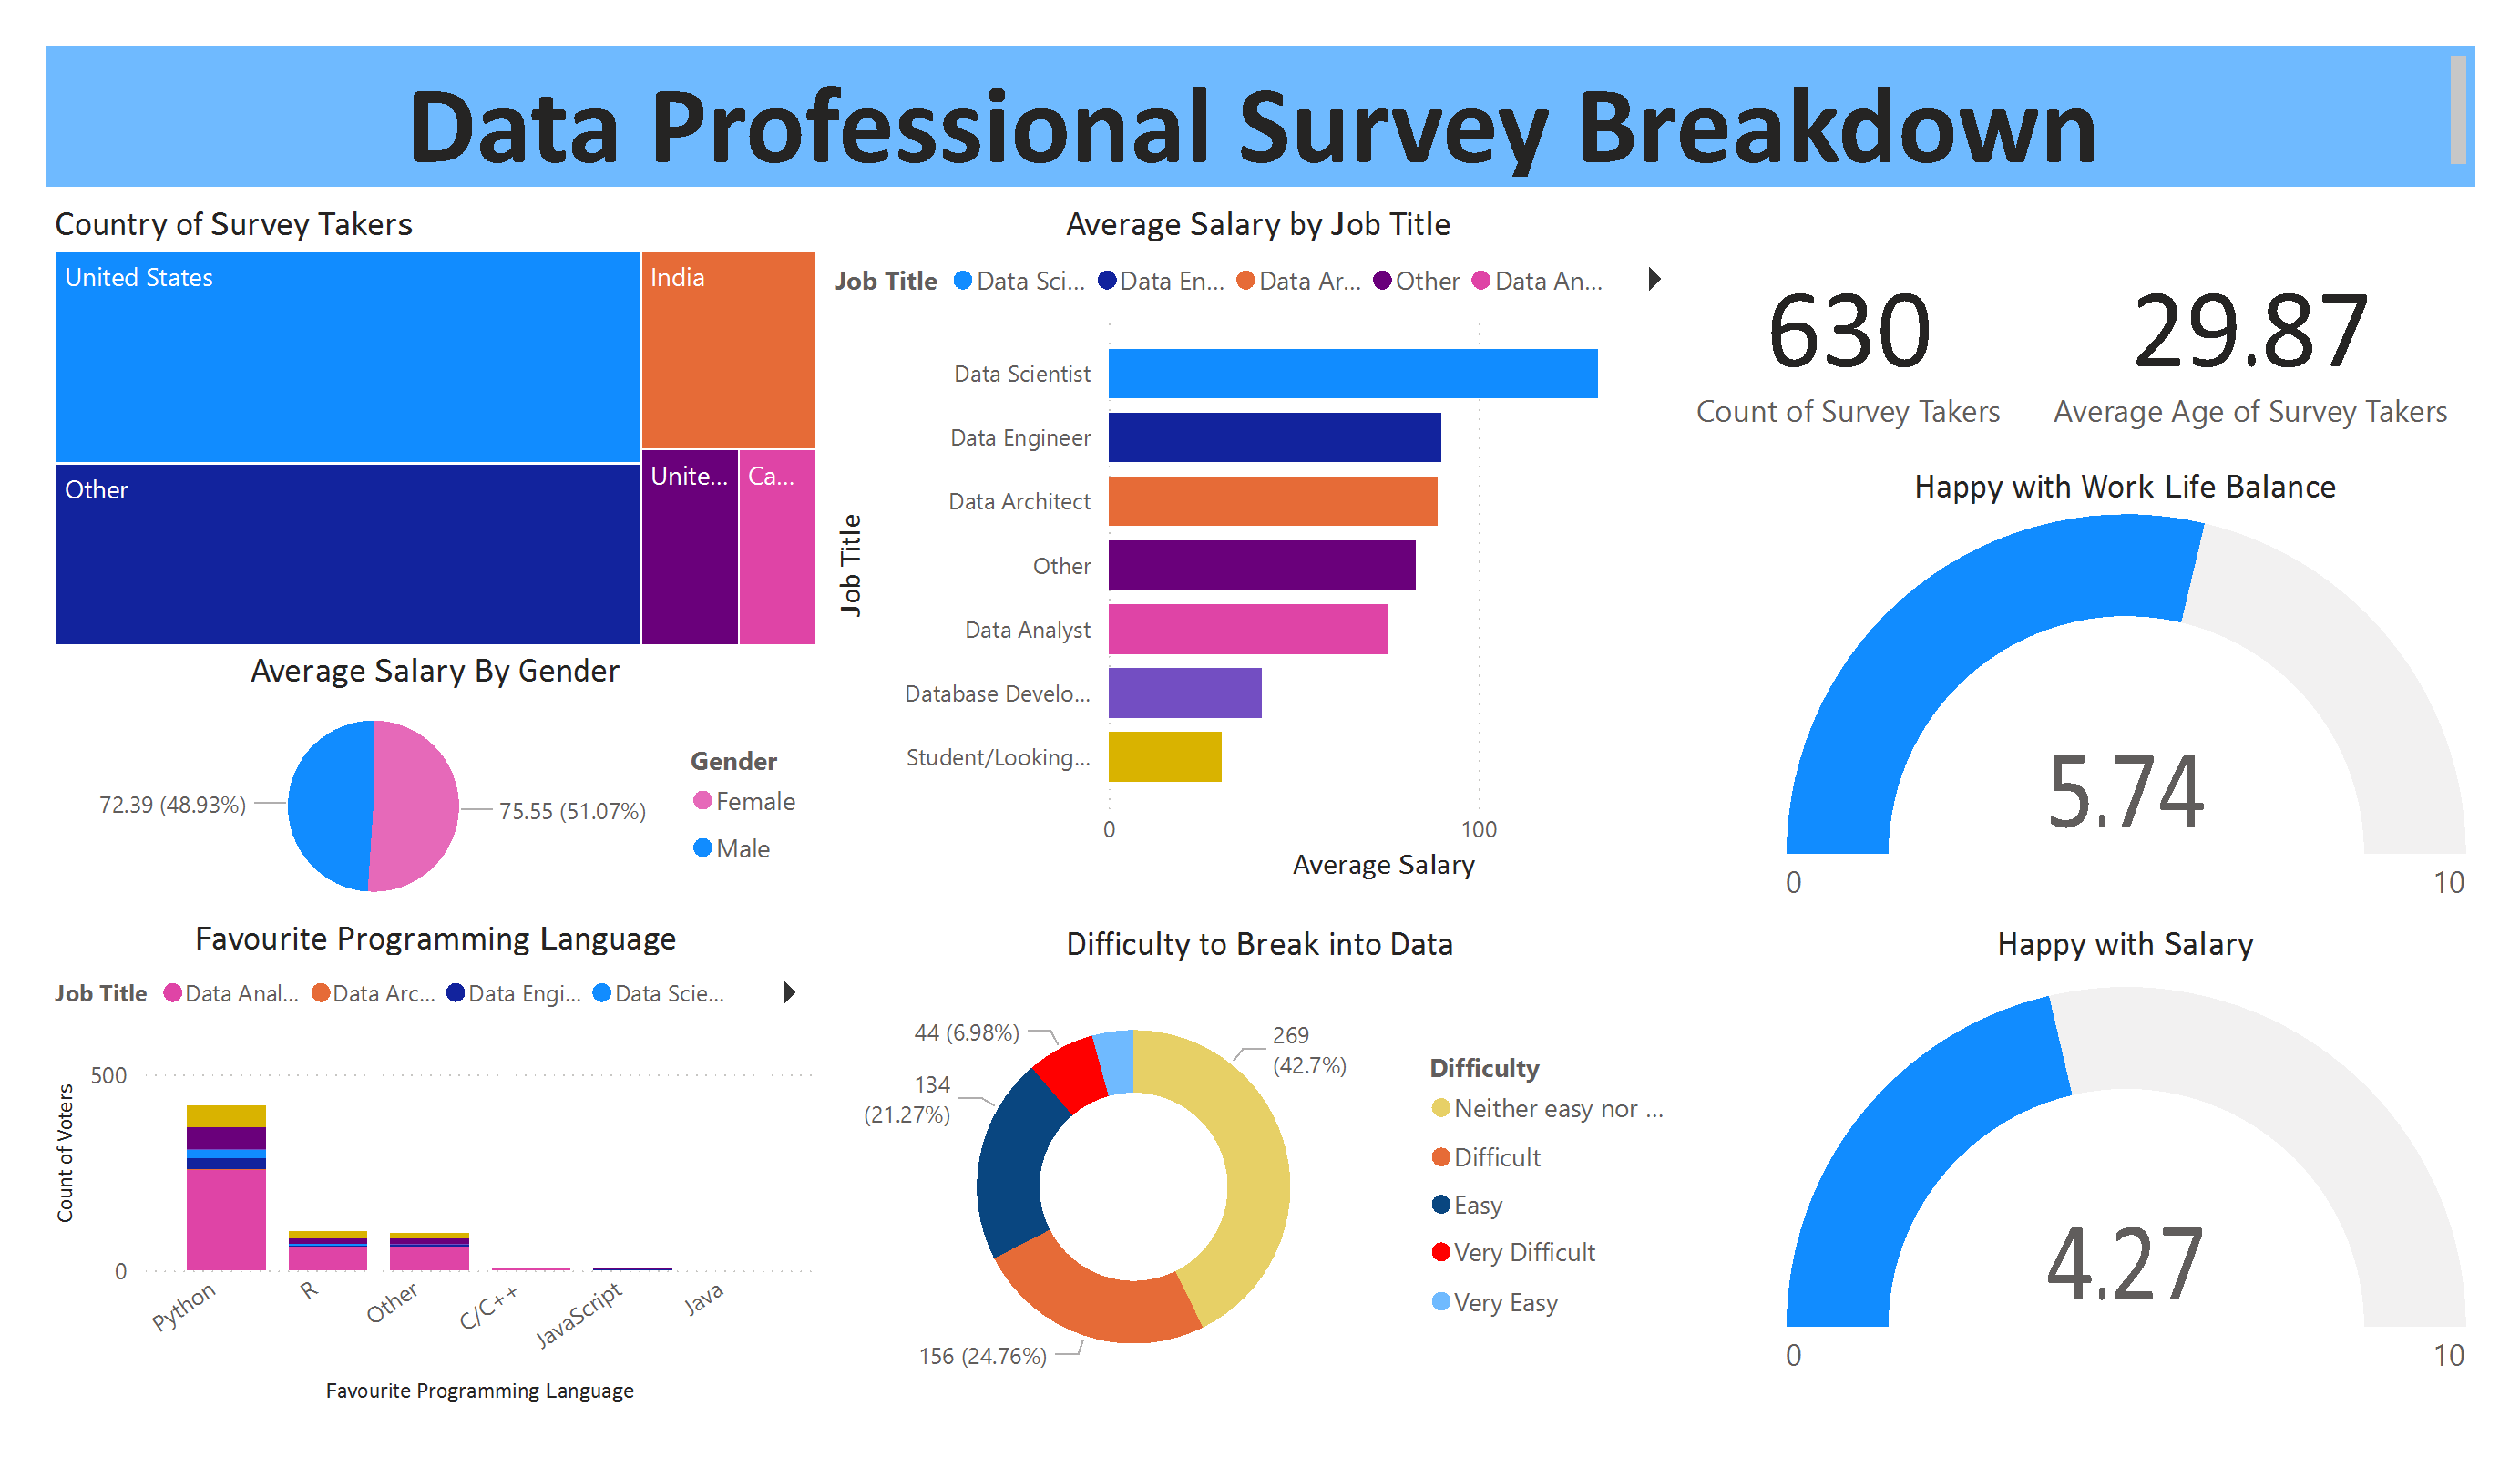

The page's visual inventory and layout, read from the dashboard file:
{"tool":"powerbi","page":{"name":"Page 1","canvas":[1280,720],"ordinal":0},"visuals":[{"type":"textbox","box":[0,0,1280.2,74.1],"z":0},{"type":"card","fields":{"Values":["CountNonNull(Data Professional Survey.Unique ID)"]},"box":[824.7,85.2,250.6,137],"z":1000},{"type":"card","fields":{"Values":["Avg(Data Professional Survey.Q10 - Current Age)"]},"box":[1044.4,85.2,235.8,137],"z":2000},{"type":"barChart","title":"Average Salary by Job Title","fields":{"Category":["Data Professional Survey.Q1 - Which Title Best Fits your Current Role?.1"],"Y":["Avg(Data Professional Survey.Average Salary)"],"Series":["Data Professional Survey.Q1 - Which Title Best Fits your Current Role?.1"]},"box":[411.1,84,455.6,360.5],"z":3000},{"type":"columnChart","title":"Favourite Programming Language","fields":{"Category":["Data Professional Survey.Q5 - Favorite Programming Language.1"],"Y":["CountNonNull(Data Professional Survey.Unique ID)"],"Series":["Data Professional Survey.Q1 - Which Title Best Fits your Current Role?.1"]},"box":[0,460.5,411.1,259.3],"z":4000},{"type":"treemap","title":"Country of Survey Takers","fields":{"Group":["Data Professional Survey.Q11 - Which Country do you live in?.1"],"Values":["CountNonNull(Data Professional Survey.Q11 - Which Country do you live in?.1)"]},"box":[0,84,411.1,237],"z":5000},{"type":"gauge","title":"Happy with Work Life Balance","fields":{"Y":["Avg(Data Professional Survey.Q6 - How Happy are you in your Current Position with the following? (Work/Life Balance))"],"MinValue":["Min(Data Professional Survey.Q6 - How Happy are you in your Current Position with the following? (Work/Life Balance))1"],"MaxValue":["Max(Data Professional Survey.Q6 - How Happy are you in your Current Position with the following? (Work/Life Balance))2"]},"box":[912.3,222.2,367.9,240.7],"z":6000},{"type":"gauge","title":"Happy with Salary","fields":{"Y":["Avg(Data Professional Survey.Q6 - How Happy are you in your Current Position with the following? (Salary))"],"MinValue":["Min(Data Professional Survey.Q6 - How Happy are you in your Current Position with the following? (Salary))1"],"MaxValue":["Max(Data Professional Survey.Q6 - How Happy are you in your Current Position with the following? (Salary))2"]},"box":[912.3,463,367.9,256.8],"z":7000},{"type":"donutChart","title":"Difficulty to Break into Data","fields":{"Category":["Data Professional Survey.Q7 - How difficult was it for you to break into Data?"],"Y":["CountNonNull(Data Professional Survey.Q7 - How difficult was it for you to break into Data?)"]},"box":[412.3,463,455.6,256.8],"z":8000},{"type":"pieChart","title":"Average Salary By Gender","fields":{"Y":["Avg(Data Professional Survey.Average Salary)"],"Category":["Data Professional Survey.Q9 - Male/Female?"]},"box":[0,318.5,411.1,144.4],"z":9000}]}

Visuals, with their boxes in screenshot pixels (x1, y1, x2, y2):
textbox: 46,46,2474,186
card - CountNonNull(Data Professional Survey.Unique ID): 1611,208,2086,467
card - Avg(Data Professional Survey.Q10 - Current Age): 2027,208,2474,467
"Average Salary by Job Title" barChart: 825,205,1690,889
"Favourite Programming Language" columnChart: 46,919,825,1412
"Country of Survey Takers" treemap: 46,205,825,655
"Happy with Work Life Balance" gauge: 1777,467,2474,924
"Happy with Salary" gauge: 1777,925,2474,1412
"Difficulty to Break into Data" donutChart: 828,925,1693,1412
"Average Salary By Gender" pieChart: 46,651,825,924
